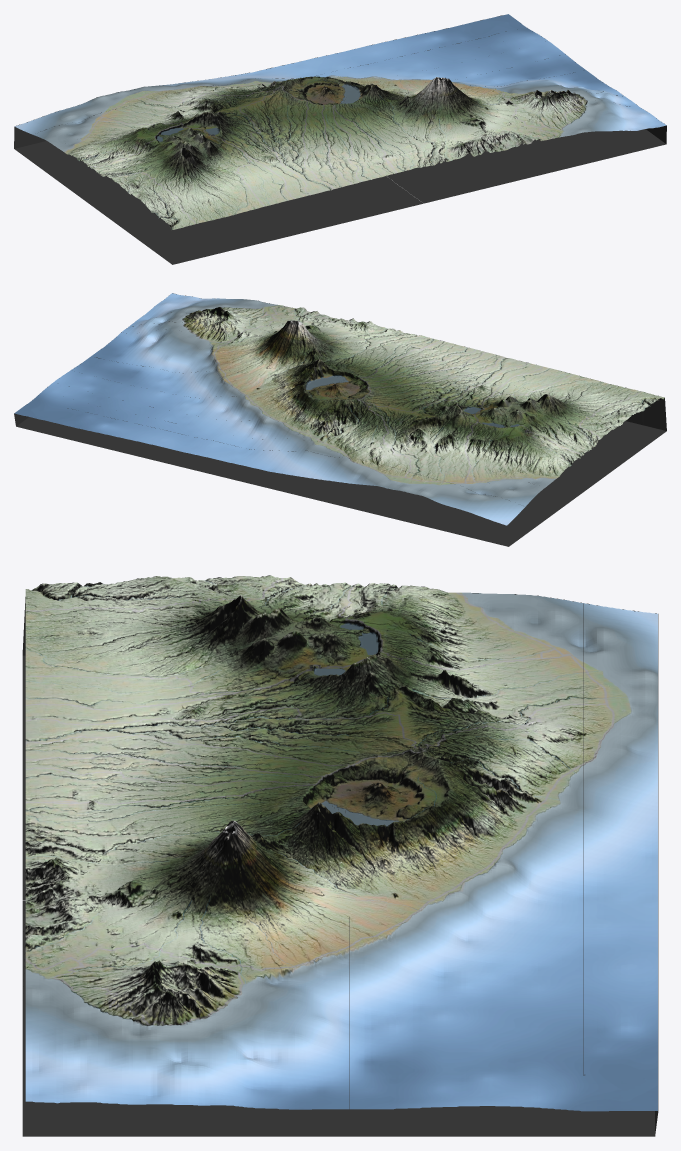
Rendered from bali_indonesia (1)-compressed.glb.
3 views of the same model, one above another, from view 1: azimuth 30°, elevation 25°; view 2: azimuth 150°, elevation 25°; view 3: azimuth 270°, elevation 25° (orthographic). The views are drawn at different scales.
Parts seen in each view (by area): view 1: skfb_offset; view 2: skfb_offset; view 3: skfb_offset.
Part boxes in pixels (x1=…): skfb_offset: x1=14, y1=14, x2=666, y2=264; skfb_offset: x1=14, y1=293, x2=666, y2=546; skfb_offset: x1=22, y1=575, x2=658, y2=1136.
Size of the model in its own units: 89924 by 12466 by 50124.
2 materials, 1 textured.
